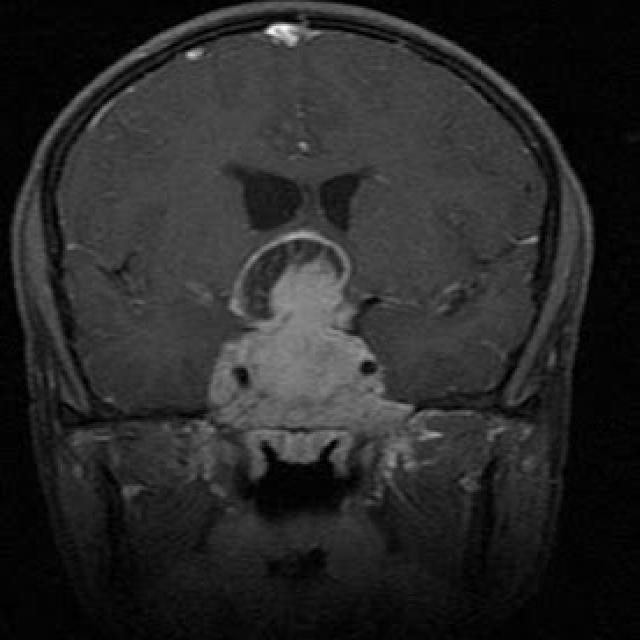brain_tumor: (209, 242, 413, 434)
